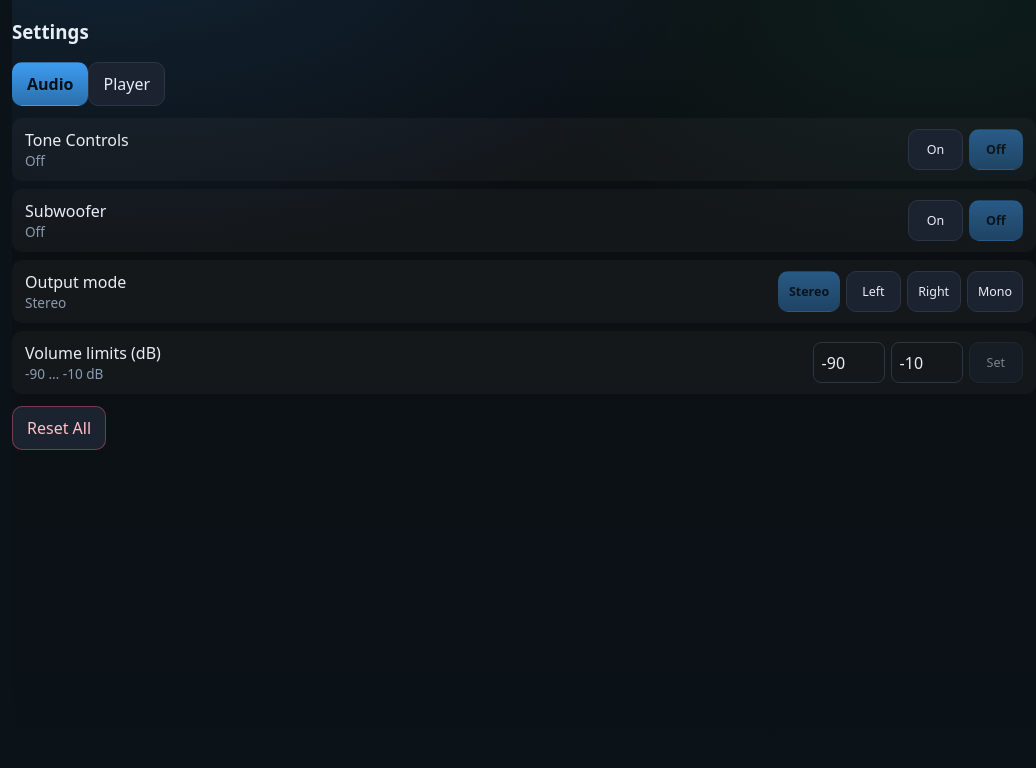
Scenario: DeviceSettingsPanel › hides Treble until Tone Controls is On
Expected: the text "Tone Controls" is shown, [25,129,129,151]
Expected: the text "Treble" is not shown
Click the button "On" in the row of "Tone Controls" at (935, 150), box [908,129,963,170]
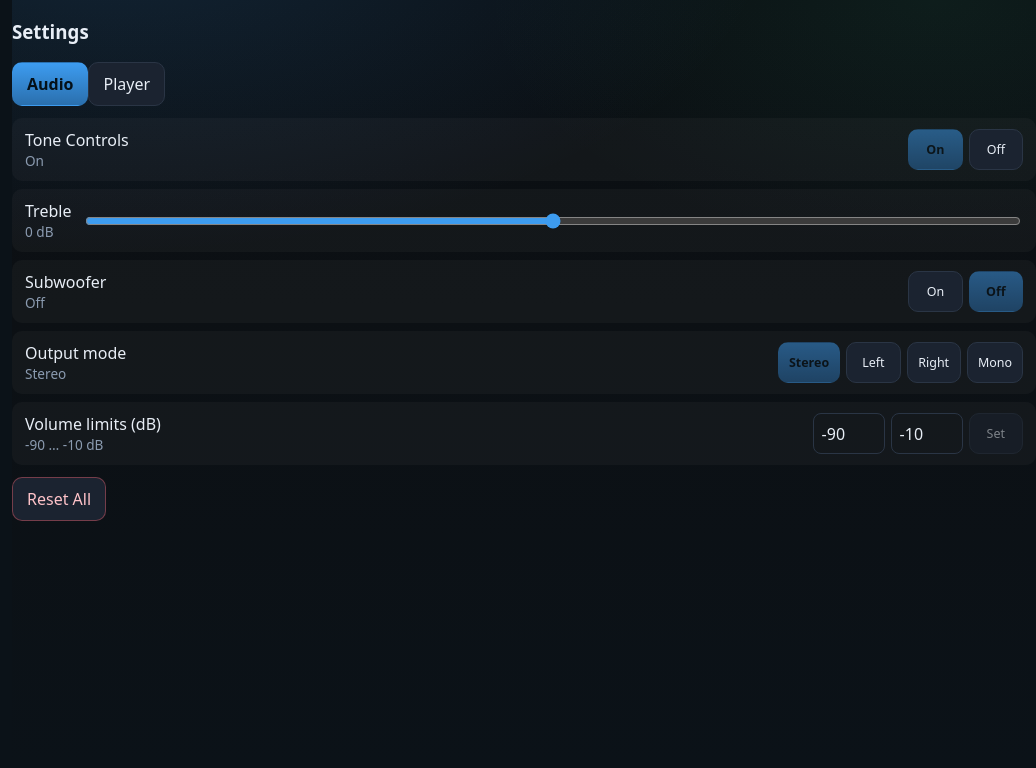
Expected: the text "Treble" is shown, [25,200,71,222]
